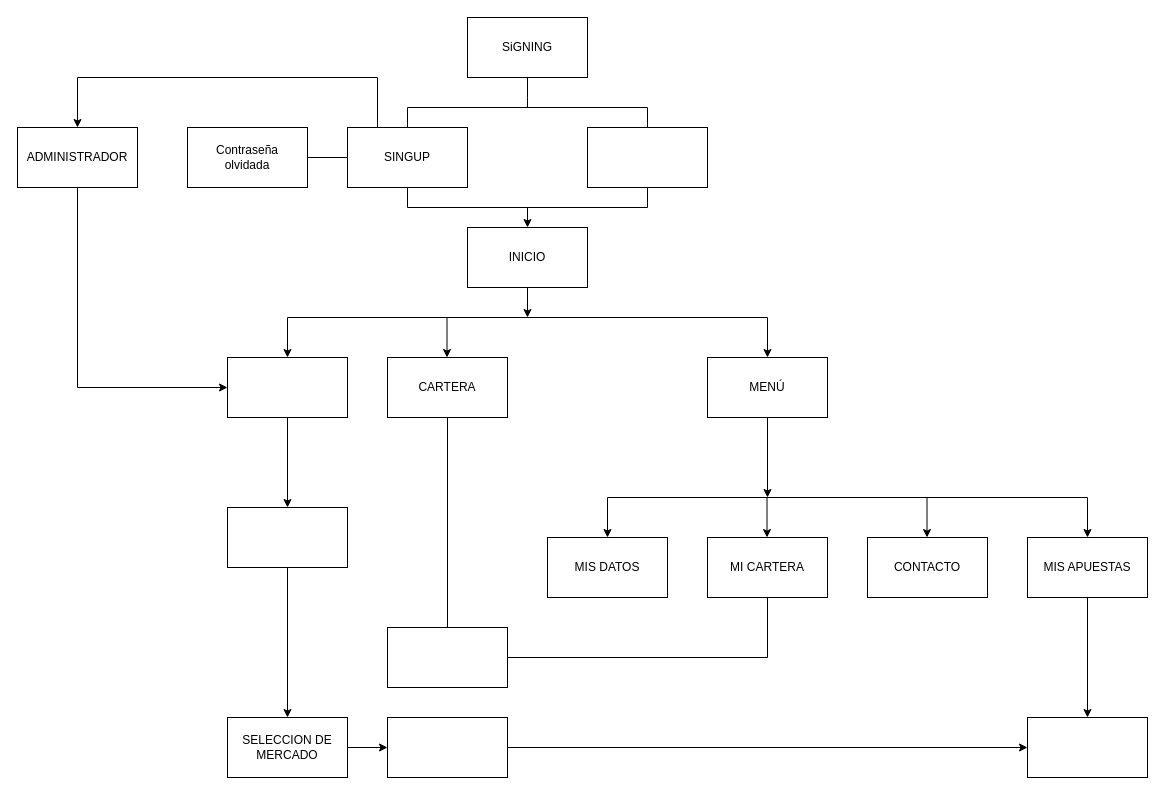
Some shapes in this 1165 by 795 pixel diagram are drawn without their labels. The centre of each missing label's shape, as x and y in pixels:
"APUESTA" goes at pixel 447 747.
"AÑADIR DINERO" goes at pixel 447 657.
"DETALLES DE MIS APUESTAS" goes at pixel 1087 747.
"DETALLES EVENTO" goes at pixel 287 537.
"EVENTOS" goes at pixel 287 387.
"Registro" goes at pixel 647 157.
